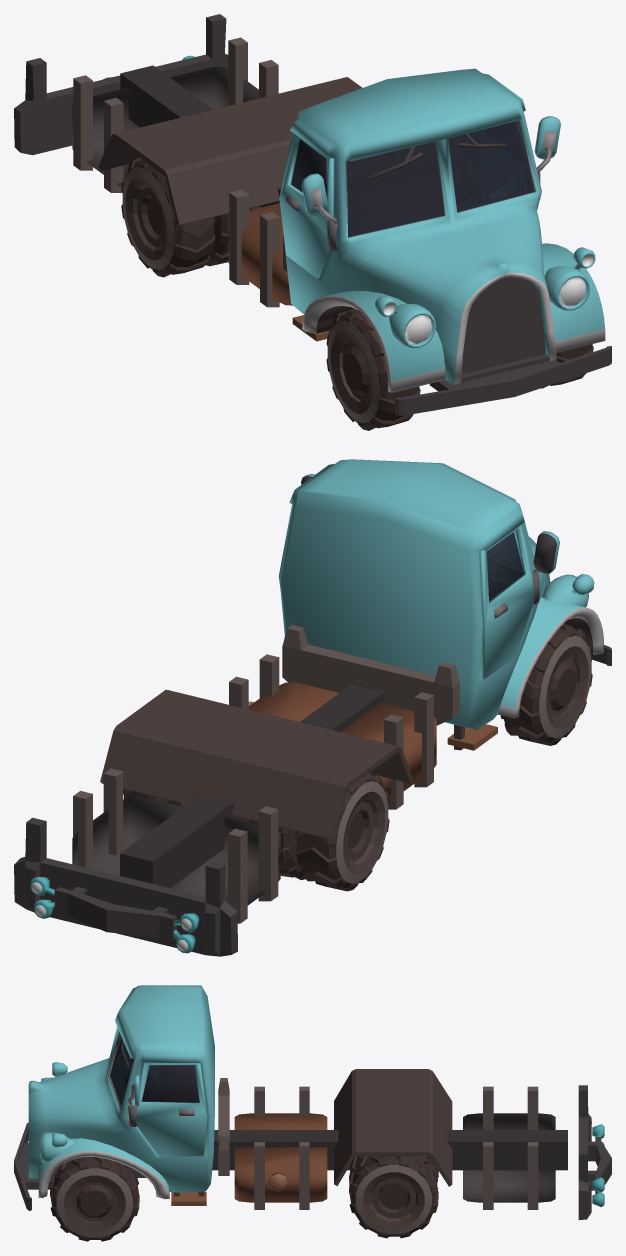
Rendered from Camion3.fbx.
3 renders of one model, top to bottom at view 1: azimuth 30°, elevation 25°; view 2: azimuth 150°, elevation 25°; view 3: azimuth 270°, elevation 25°, orthographic. The views are drawn at different scales.
Visible parts, largest first — view 1: Truck_body.004, Truck_WheelCover.004, Truck_Engine.004, TruckModule_Laggage.003, Truck_Wheel_Back.004, Truck_Bumper.004, Truck_Wheel_Front.right.004, TruckModule_OilTank.004, Truck_Door.right.004, Truck_Chassy_Short.004; view 2: Truck_body.004, Truck_WheelCover.004, Truck_Chassy_Short.004, Truck_Bumper.004, TruckModule_Laggage.003, TruckModule_OilTank.004, Truck_Wheel_Back.004, Truck_Wheel_Front.right.004, Truck_Door.right.004; view 3: Truck_body.004, Truck_WheelCover.004, Truck_Chassy_Short.004, TruckModule_OilTank.004, Truck_Wheel_Back.004, Truck_Wheel_Front.left.004, TruckModule_Laggage.003, Truck_Door.left.004, Truck_Bumper.004, Truck_Engine.004.
Part boxes in pixels (x1,y1,x2,y2): Truck_body.004: (283,68,605,392); Truck_WheelCover.004: (98,77,362,225); Truck_Engine.004: (395,277,611,415); TruckModule_Laggage.003: (72,37,278,192); Truck_Wheel_Back.004: (121,158,260,277); Truck_Bumper.004: (14,14,228,155); Truck_Wheel_Front.right.004: (326,308,420,430); TruckModule_OilTank.004: (228,189,292,307); Truck_Door.right.004: (279,132,333,278); Truck_Chassy_Short.004: (120,65,287,271); Truck_body.004: (279,459,604,750); Truck_WheelCover.004: (100,689,412,840); Truck_Chassy_Short.004: (120,625,459,887); Truck_Bumper.004: (14,817,237,956); TruckModule_Laggage.003: (72,768,280,923); TruckModule_OilTank.004: (229,654,436,809); Truck_Wheel_Back.004: (123,773,389,891); Truck_Wheel_Front.right.004: (500,624,592,745); Truck_Door.right.004: (480,525,534,679); Truck_body.004: (28,985,214,1205); Truck_WheelCover.004: (334,1069,452,1186); Truck_Chassy_Short.004: (212,1078,567,1175); TruckModule_OilTank.004: (234,1086,327,1209); Truck_Wheel_Back.004: (349,1156,438,1238); Truck_Wheel_Front.left.004: (50,1157,139,1241); TruckModule_Laggage.003: (463,1086,555,1209); Truck_Door.left.004: (134,1063,207,1156); Truck_Bumper.004: (578,1085,611,1219); Truck_Engine.004: (14,1122,146,1210).
Bounding box in the file's own units: 506 × 511 × 1397.
Materials: 4 (2 with a texture image).
